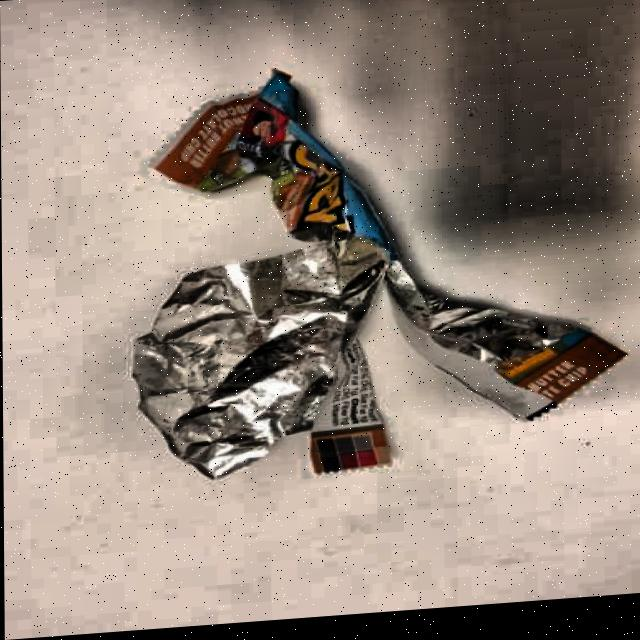plastic: (103, 36, 628, 528)
